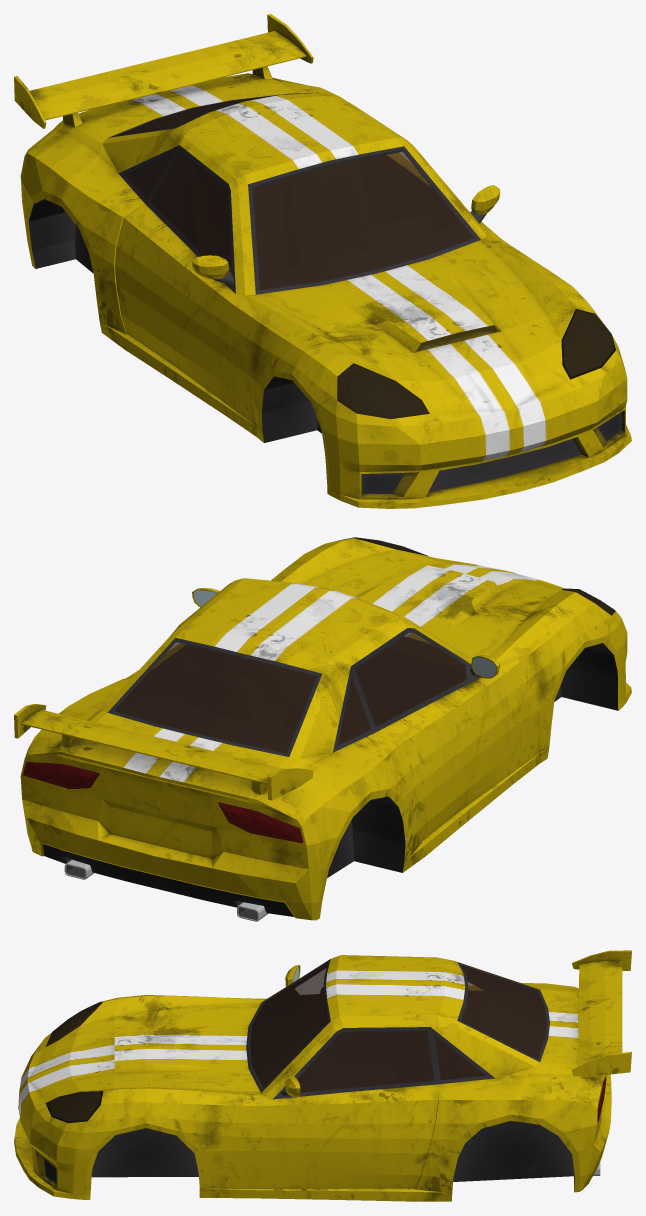
Rendered from sportcar.017.glb.
3 renders of one model, top to bottom at view 1: azimuth 30°, elevation 25°; view 2: azimuth 150°, elevation 25°; view 3: azimuth 270°, elevation 25°, orthographic. The views are drawn at different scales.
Parts seen in each view (by area): view 1: Body, Glass; view 2: Body, Glass; view 3: Body, Glass.
Part boxes in pixels (left/top/right/bottom): Body: left=14, top=14, right=631, bottom=508; Glass: left=115, top=94, right=615, bottom=419; Body: left=14, top=538, right=631, bottom=921; Glass: left=23, top=537, right=615, bottom=843; Body: left=14, top=950, right=631, bottom=1201; Glass: left=45, top=963, right=606, bottom=1123.
Size of the model in its own units: 1.93 by 1.17 by 4.08.
Materials: 3 (3 with a texture image).
